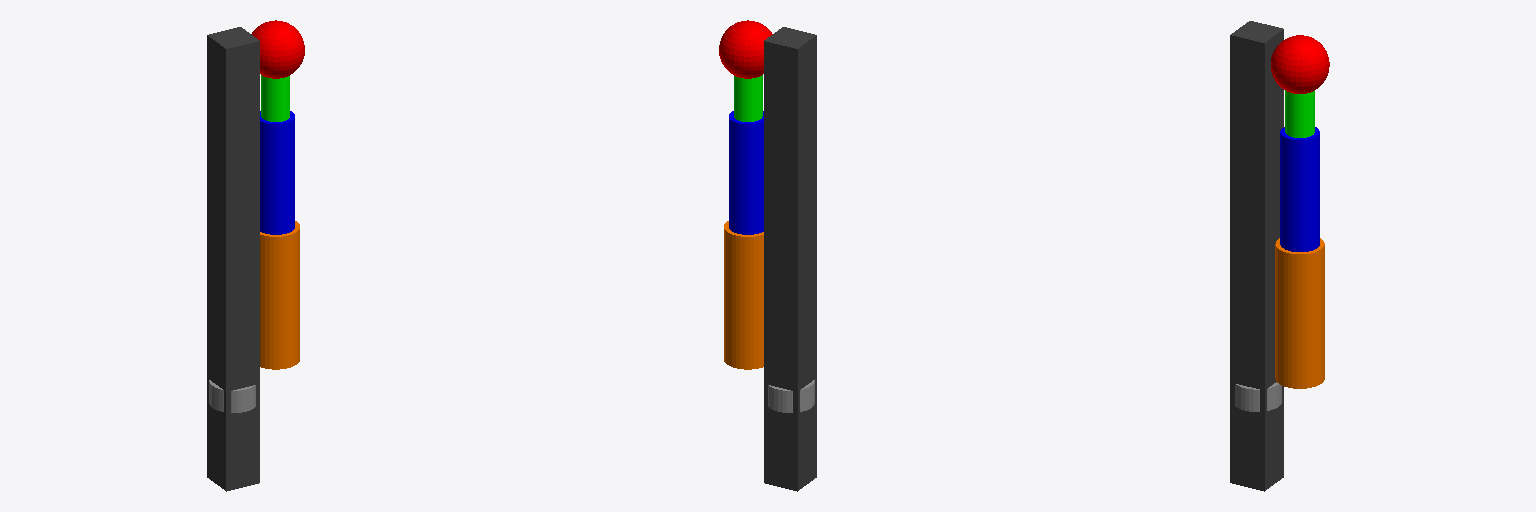
The robot description file, URDF, robot "rail_arm_robot":
<?xml version="1.0"?>
<robot name="rail_arm_robot">

  <!-- ================================================================== -->
  <!-- World link (fixed base — visual rail column)                       -->
  <!-- ================================================================== -->
  <link name="world_link">
    <inertial>
      <mass value="5.0"/>
      <origin xyz="0 0 0.3"/>
      <inertia ixx="0.4" ixy="0.0" ixz="0.0" iyy="0.4" iyz="0.0" izz="0.003"/>
    </inertial>
    <visual>
      <geometry>
        <box size="0.08 0.08 1.0"/>
      </geometry>
      <material name="dark_gray">
        <color rgba="0.3 0.3 0.3 1.0"/>
      </material>
      <origin rpy="0 0 0" xyz="0 0 0.3"/>
    </visual>
    <collision>
      <geometry>
        <box size="0.08 0.08 1.2"/>
      </geometry>
      <origin rpy="0 0 0" xyz="0 0 0.5"/>
    </collision>
  </link>

  <!-- ================================================================== -->
  <!-- Rail platform (rides on the prismatic joint)                       -->
  <!-- ================================================================== -->
  <link name="rail_platform_link">
    <inertial>
      <mass value="0.5"/>
      <origin xyz="0 0 0"/>
      <inertia ixx="0.0003" ixy="0.0" ixz="0.0" iyy="0.0003" iyz="0.0" izz="0.0006"/>
    </inertial>
    <visual>
      <geometry>
        <cylinder radius="0.05" length="0.05"/>
      </geometry>
      <material name="gray">
        <color rgba="0.6 0.6 0.6 1.0"/>
      </material>
    </visual>
    <collision>
      <geometry>
        <cylinder radius="0.05" length="0.05"/>
      </geometry>
    </collision>
  </link>

  <!-- Prismatic (linear) joint — Z-axis slide, 0 to 1 m -->
  <joint name="rail_joint" type="prismatic">
    <parent link="world_link"/>
    <child link="rail_platform_link"/>
    <origin xyz="0.0 0.0 0.0" rpy="0 0 0"/>
    <axis xyz="0 0 1"/>
    <limit lower="0.0" upper="1.0" effort="200" velocity="0.5"/>
  </joint>

  <!-- ================================================================== -->
  <!-- Arm links (based on arm_robot.urdf, with modified offsets)         -->
  <!-- ================================================================== -->

  <!-- Shoulder link (first arm segment) -->
  <link name="shoulder_link">
    <inertial>
      <mass value="0.5"/>
      <origin xyz="0 0 0.15"/>
      <inertia ixx="0.005" ixy="0.0" ixz="0.0" iyy="0.005" iyz="0.0" izz="0.001"/>
    </inertial>
    <visual>
      <geometry>
        <cylinder radius="0.05" length="0.3"/>
      </geometry>
      <material name="orange">
        <color rgba="1.0 0.5 0.0 1.0"/>
      </material>
      <origin rpy="0 0 0" xyz="0 0 0.15"/>
    </visual>
    <collision>
      <geometry>
        <cylinder radius="0.05" length="0.3"/>
      </geometry>
      <origin rpy="0 0 0" xyz="0 0 0.15"/>
    </collision>
  </link>

  <!-- Elbow link (second arm segment) -->
  <link name="elbow_link">
    <inertial>
      <mass value="0.3"/>
      <origin xyz="0 0 0.125"/>
      <inertia ixx="0.003" ixy="0.0" ixz="0.0" iyy="0.003" iyz="0.0" izz="0.0005"/>
    </inertial>
    <visual>
      <geometry>
        <cylinder radius="0.04" length="0.25"/>
      </geometry>
      <material name="blue">
        <color rgba="0.0 0.0 1.0 1.0"/>
      </material>
      <origin rpy="0 0 0" xyz="0 0 0.125"/>
    </visual>
    <collision>
      <geometry>
        <cylinder radius="0.04" length="0.25"/>
      </geometry>
      <origin rpy="0 0 0" xyz="0 0 0.125"/>
    </collision>
  </link>

  <!-- Wrist link (third arm segment) -->
  <link name="wrist_link">
    <inertial>
      <mass value="0.2"/>
      <origin xyz="0 0 0.075"/>
      <inertia ixx="0.001" ixy="0.0" ixz="0.0" iyy="0.001" iyz="0.0" izz="0.0003"/>
    </inertial>
    <visual>
      <geometry>
        <cylinder radius="0.03" length="0.15"/>
      </geometry>
      <material name="green">
        <color rgba="0.0 1.0 0.0 1.0"/>
      </material>
      <origin rpy="0 0 0" xyz="0 0 0.075"/>
    </visual>
    <collision>
      <geometry>
        <cylinder radius="0.03" length="0.15"/>
      </geometry>
      <origin rpy="0 0 0" xyz="0 0 0.075"/>
    </collision>
  </link>

  <!-- End effector -->
  <link name="end_effector">
    <inertial>
      <mass value="0.1"/>
      <origin xyz="0 0 0"/>
      <inertia ixx="0.0001" ixy="0.0" ixz="0.0" iyy="0.0001" iyz="0.0" izz="0.0001"/>
    </inertial>
    <visual>
      <geometry>
        <sphere radius="0.06"/>
      </geometry>
      <material name="red">
        <color rgba="1.0 0.0 0.0 1.0"/>
      </material>
    </visual>
    <collision>
      <geometry>
        <sphere radius="0.06"/>
      </geometry>
    </collision>
  </link>

  <!-- ================================================================== -->
  <!-- Arm joints (identical to arm_robot.urdf)                           -->
  <!-- ================================================================== -->

  <!-- Base to shoulder joint (shoulder rotation) — offset in X to clear rail column -->
  <joint name="base_to_shoulder" type="revolute">
    <parent link="rail_platform_link"/>
    <child link="shoulder_link"/>
    <origin xyz="0.1 0.0 0.05" rpy="0 0 0"/>
    <axis xyz="0 0 1"/>
    <limit lower="-3.14159" upper="3.14159" effort="100" velocity="2.0"/>
  </joint>

  <!-- Shoulder to elbow joint (shoulder pitch) -->
  <joint name="shoulder_to_elbow" type="revolute">
    <parent link="shoulder_link"/>
    <child link="elbow_link"/>
    <origin xyz="0.0 0.0 0.30" rpy="0 0 0"/>
    <axis xyz="1 0 0"/>
    <limit lower="-2.0" upper="2.0" effort="80" velocity="1.8"/>
  </joint>

  <!-- Elbow to wrist joint (elbow pitch) -->
  <joint name="elbow_to_wrist" type="revolute">
    <parent link="elbow_link"/>
    <child link="wrist_link"/>
    <origin xyz="0.0 0.0 0.25" rpy="0 0 0"/>
    <axis xyz="1 0 0"/>
    <limit lower="-2.5" upper="2.5" effort="60" velocity="1.5"/>
  </joint>

  <!-- Wrist to end effector joint (wrist rotation) -->
  <joint name="wrist_to_end" type="revolute">
    <parent link="wrist_link"/>
    <child link="end_effector"/>
    <origin xyz="0.0 0.0 0.15" rpy="0 0 0"/>
    <axis xyz="0 0 1"/>
    <limit lower="-1.57" upper="1.57" effort="40" velocity="1.2"/>
  </joint>

</robot>

--- What the picture shows (computed from the rendered views, not written in the file) ---
Views: 3 orthographic renders of the robot side by side, from view 1: azimuth 30°, elevation 25°; view 2: azimuth 150°, elevation 25°; view 3: azimuth 330°, elevation 25°.
Robot: rail_arm_robot — 6 links, 5 joints (4 revolute, 1 prismatic); root link world_link; default pose: every joint at zero.
Visible links, largest first — view 1: world_link, shoulder_link, elbow_link, end_effector, wrist_link, rail_platform_link; view 2: world_link, shoulder_link, elbow_link, end_effector, wrist_link, rail_platform_link; view 3: world_link, shoulder_link, elbow_link, end_effector, wrist_link, rail_platform_link.
Link boxes in pixels (x1,y1,x2,y2): world_link: [207, 27, 259, 491]; shoulder_link: [260, 221, 299, 369]; elbow_link: [260, 111, 294, 234]; end_effector: [251, 20, 304, 78]; wrist_link: [261, 75, 289, 121]; rail_platform_link: [209, 380, 255, 412]; world_link: [764, 27, 816, 491]; shoulder_link: [724, 221, 763, 369]; elbow_link: [729, 111, 763, 234]; end_effector: [719, 20, 772, 78]; wrist_link: [734, 75, 762, 121]; rail_platform_link: [768, 380, 814, 412]; world_link: [1230, 21, 1283, 491]; shoulder_link: [1275, 238, 1324, 388]; elbow_link: [1280, 127, 1319, 251]; end_effector: [1271, 35, 1329, 93]; wrist_link: [1285, 90, 1314, 137]; rail_platform_link: [1235, 382, 1281, 411].
Bounding box of the posed robot: 0.21 × 0.12 × 1.01 m (x, y, z).
Geometry: primitives only (box / cylinder / sphere), no mesh files.
